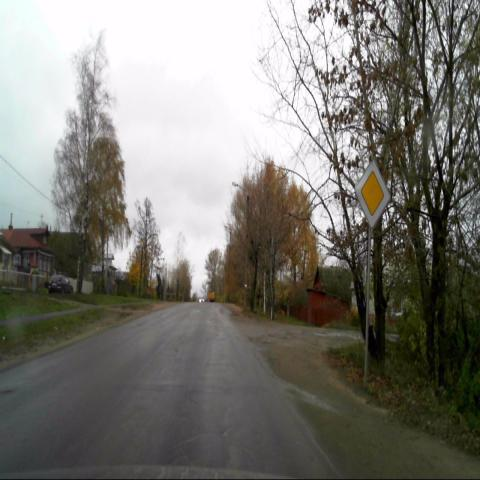2_1: (355, 158, 390, 228)
